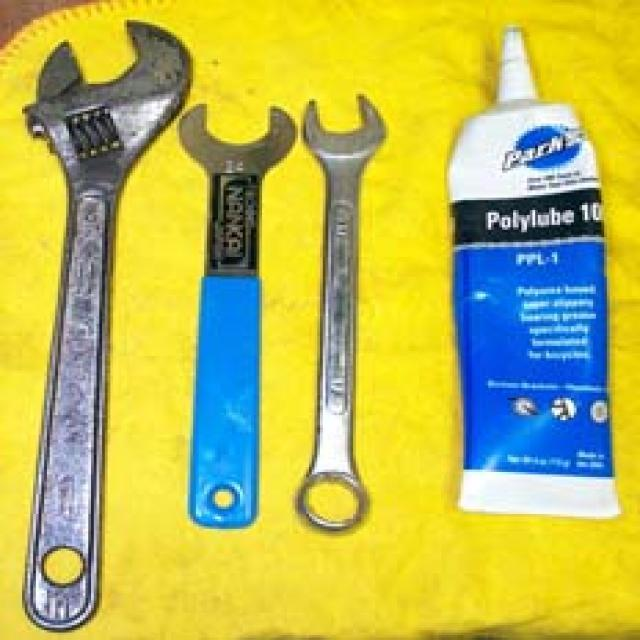wrench: (17, 15, 195, 636), (170, 98, 300, 533), (292, 85, 397, 534)
